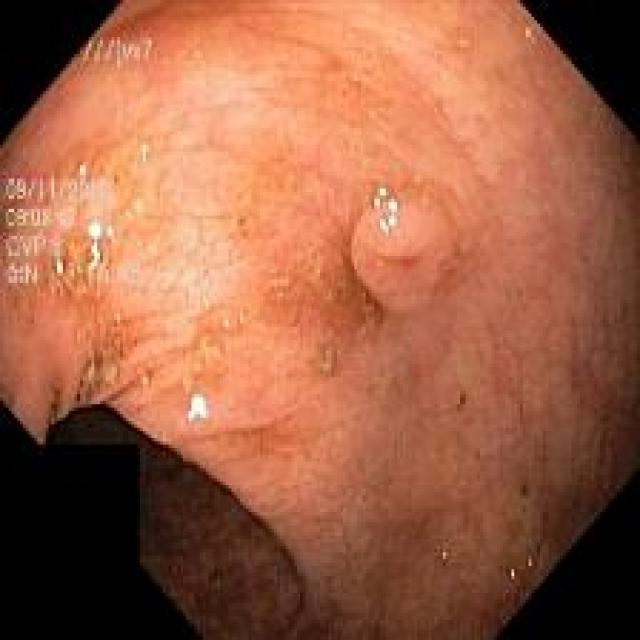Polyps: (350, 186, 452, 312)
